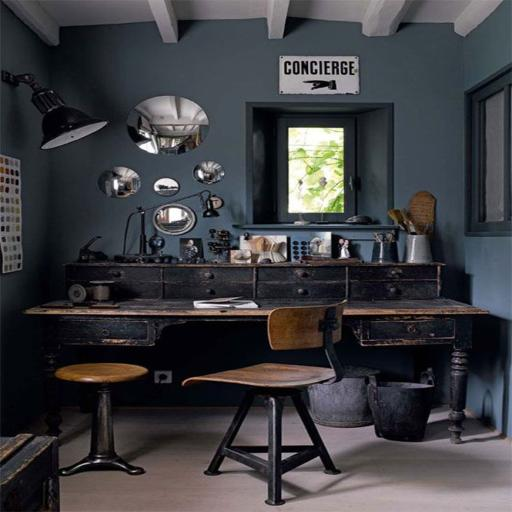chair: (182, 300, 348, 505), (55, 363, 149, 476)
desk: (23, 260, 488, 445)
wall: (0, 0, 511, 443)
